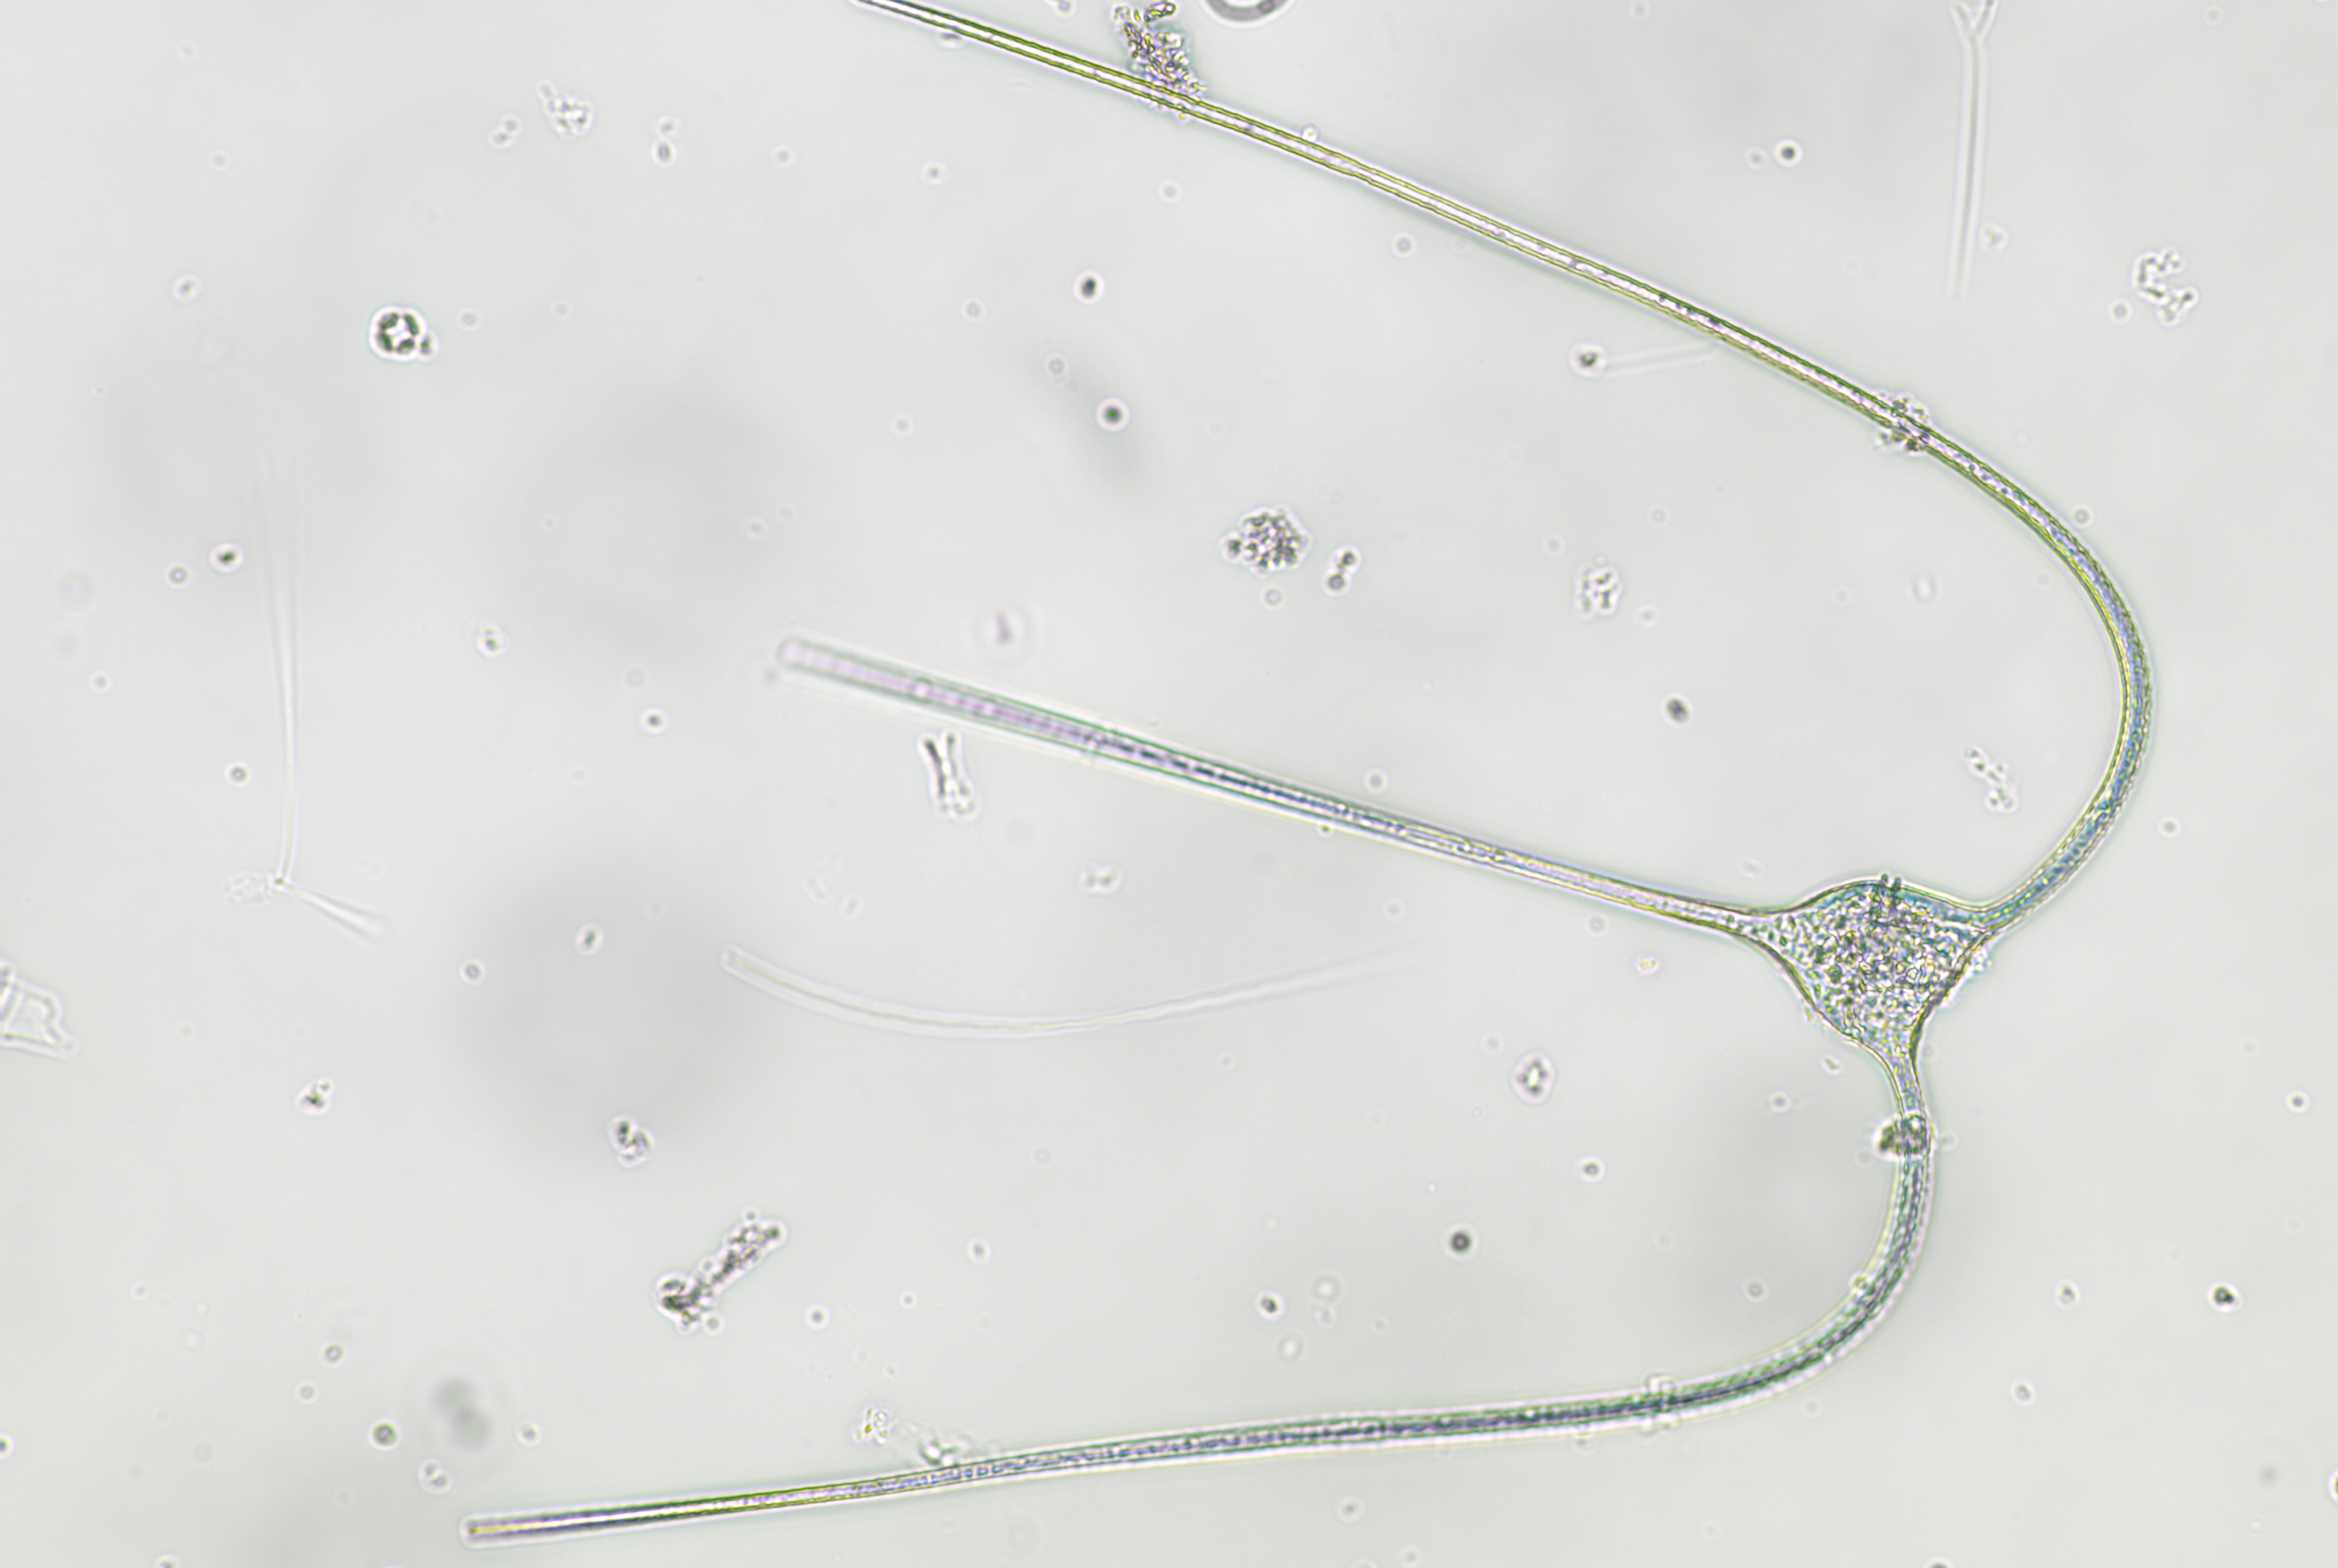ceratium trichoceros: (446, 0, 2170, 1552)
